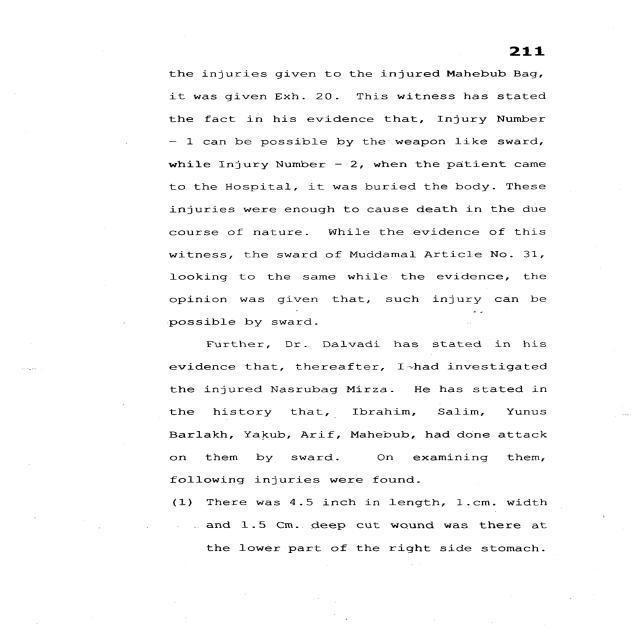page-number: (434, 0, 640, 66)
